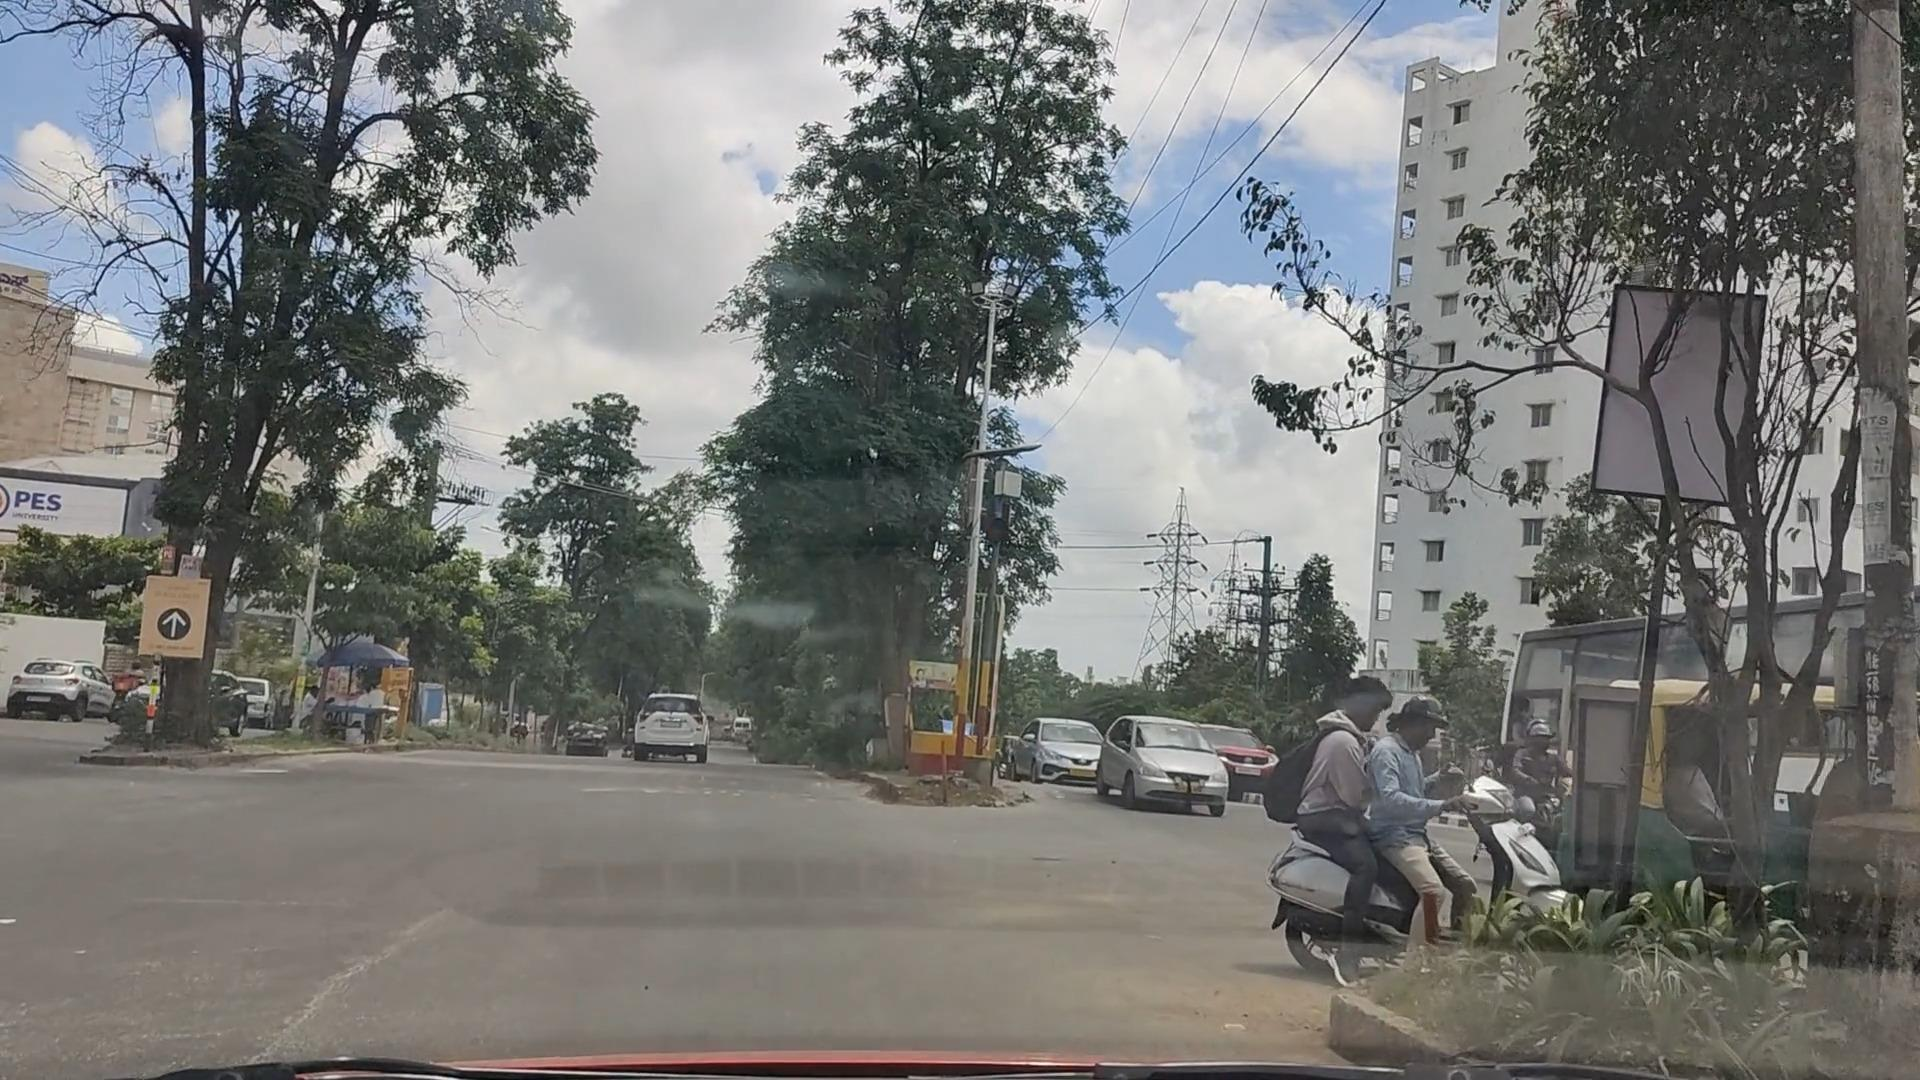RoadDamages: (255, 890, 443, 1046)
